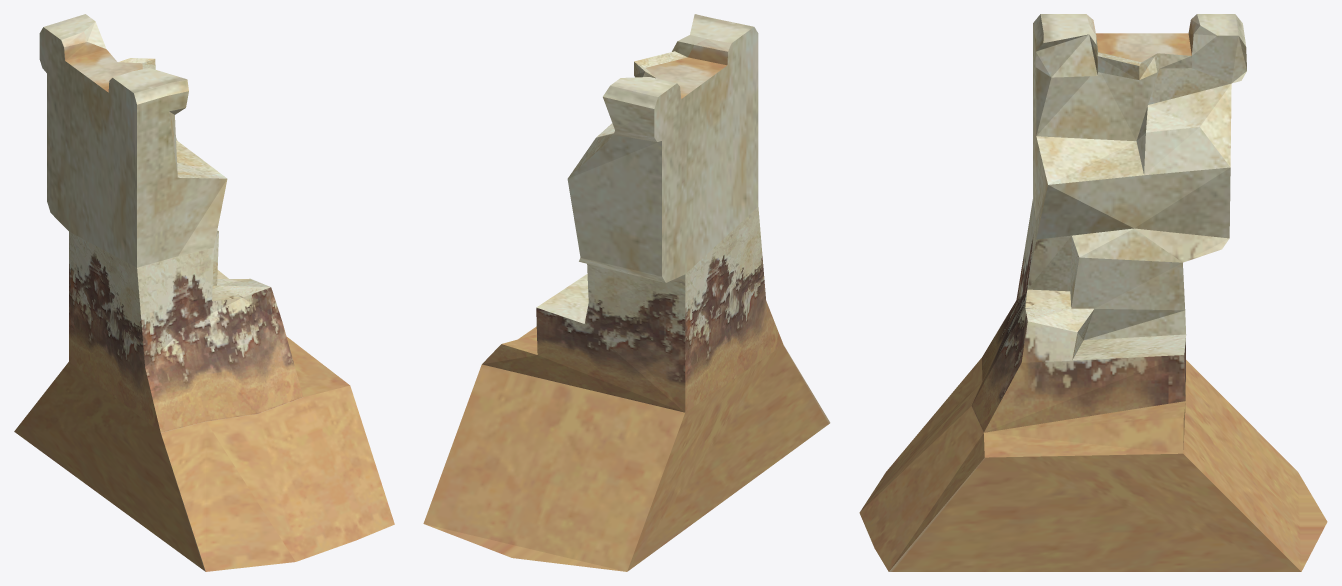
File: C2SMWA5HDE_HR.obj
The picture shows the model from 3 angles, left to right: view 1: azimuth 30°, elevation 25°; view 2: azimuth 150°, elevation 25°; view 3: azimuth 270°, elevation 25°; orthographic projection. The views are drawn at different scales.
Parts seen in each view (by area): view 1: Node 0; view 2: Node 0; view 3: Node 0.
Boxes of the visible parts, x1,y1,x2,y2 form: Node 0: (14,14,394,571); Node 0: (423,14,830,571); Node 0: (859,14,1327,571).
Size of the model in its own units: 5.01 by 10.72 by 9.9.
3 materials, 3 textured.
